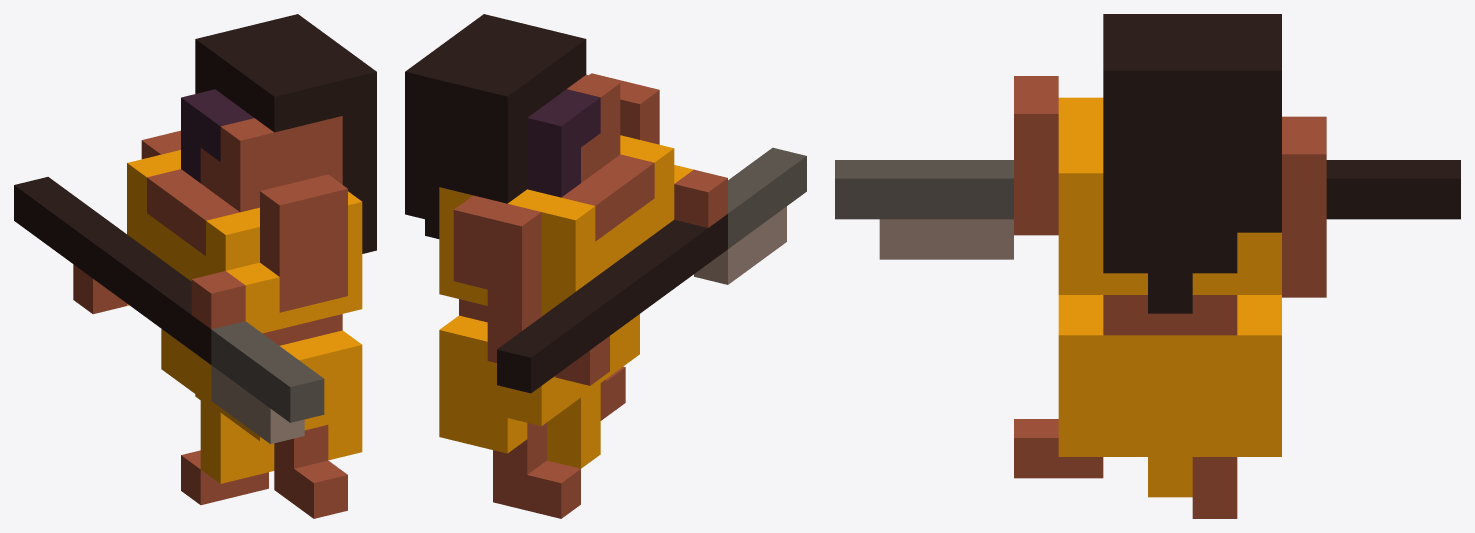
File: amazon_action_0.obj
3 renders of one model, left to right at view 1: azimuth 30°, elevation 25°; view 2: azimuth 150°, elevation 25°; view 3: azimuth 270°, elevation 25°, orthographic. The views are drawn at different scales.
Size of the model in its own units: 0.6 by 1.2 by 1.4.
1 material, 1 textured.
